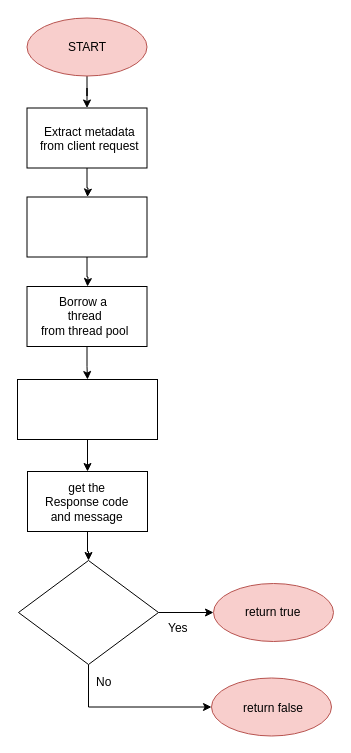
Some shapes in this 351 by 753 pixel diagram are drawn without their labels. Each missing label, with the centre of its shape:
Get CorrelationID from synapse: (86,226)
Is response code = 200: (88,612)
Thread Blocking Sideband Call to ASE and release the thread: (87,409)
